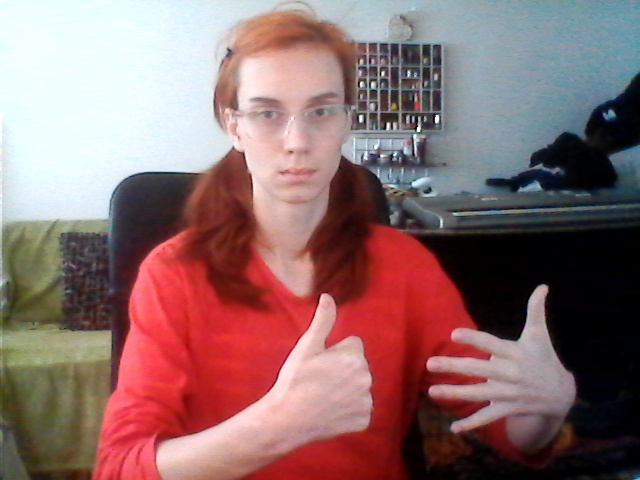sest: (277, 278, 571, 444)
